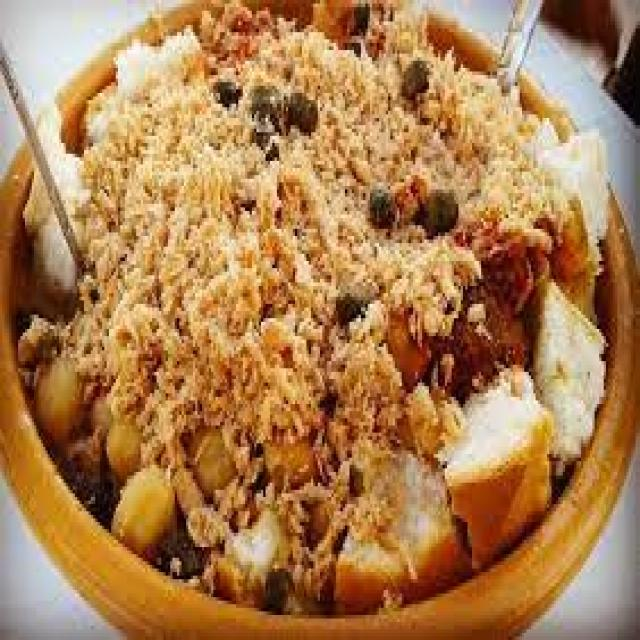Lablabi: (66, 18, 616, 586)
